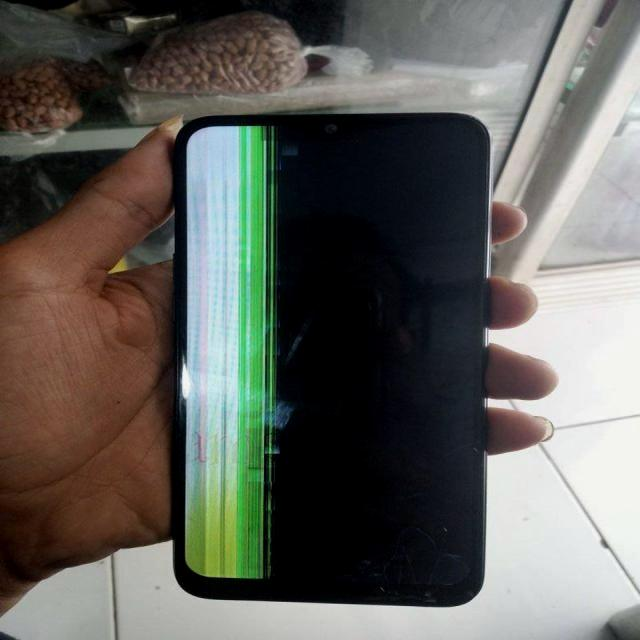phone: (173, 112, 488, 608)
